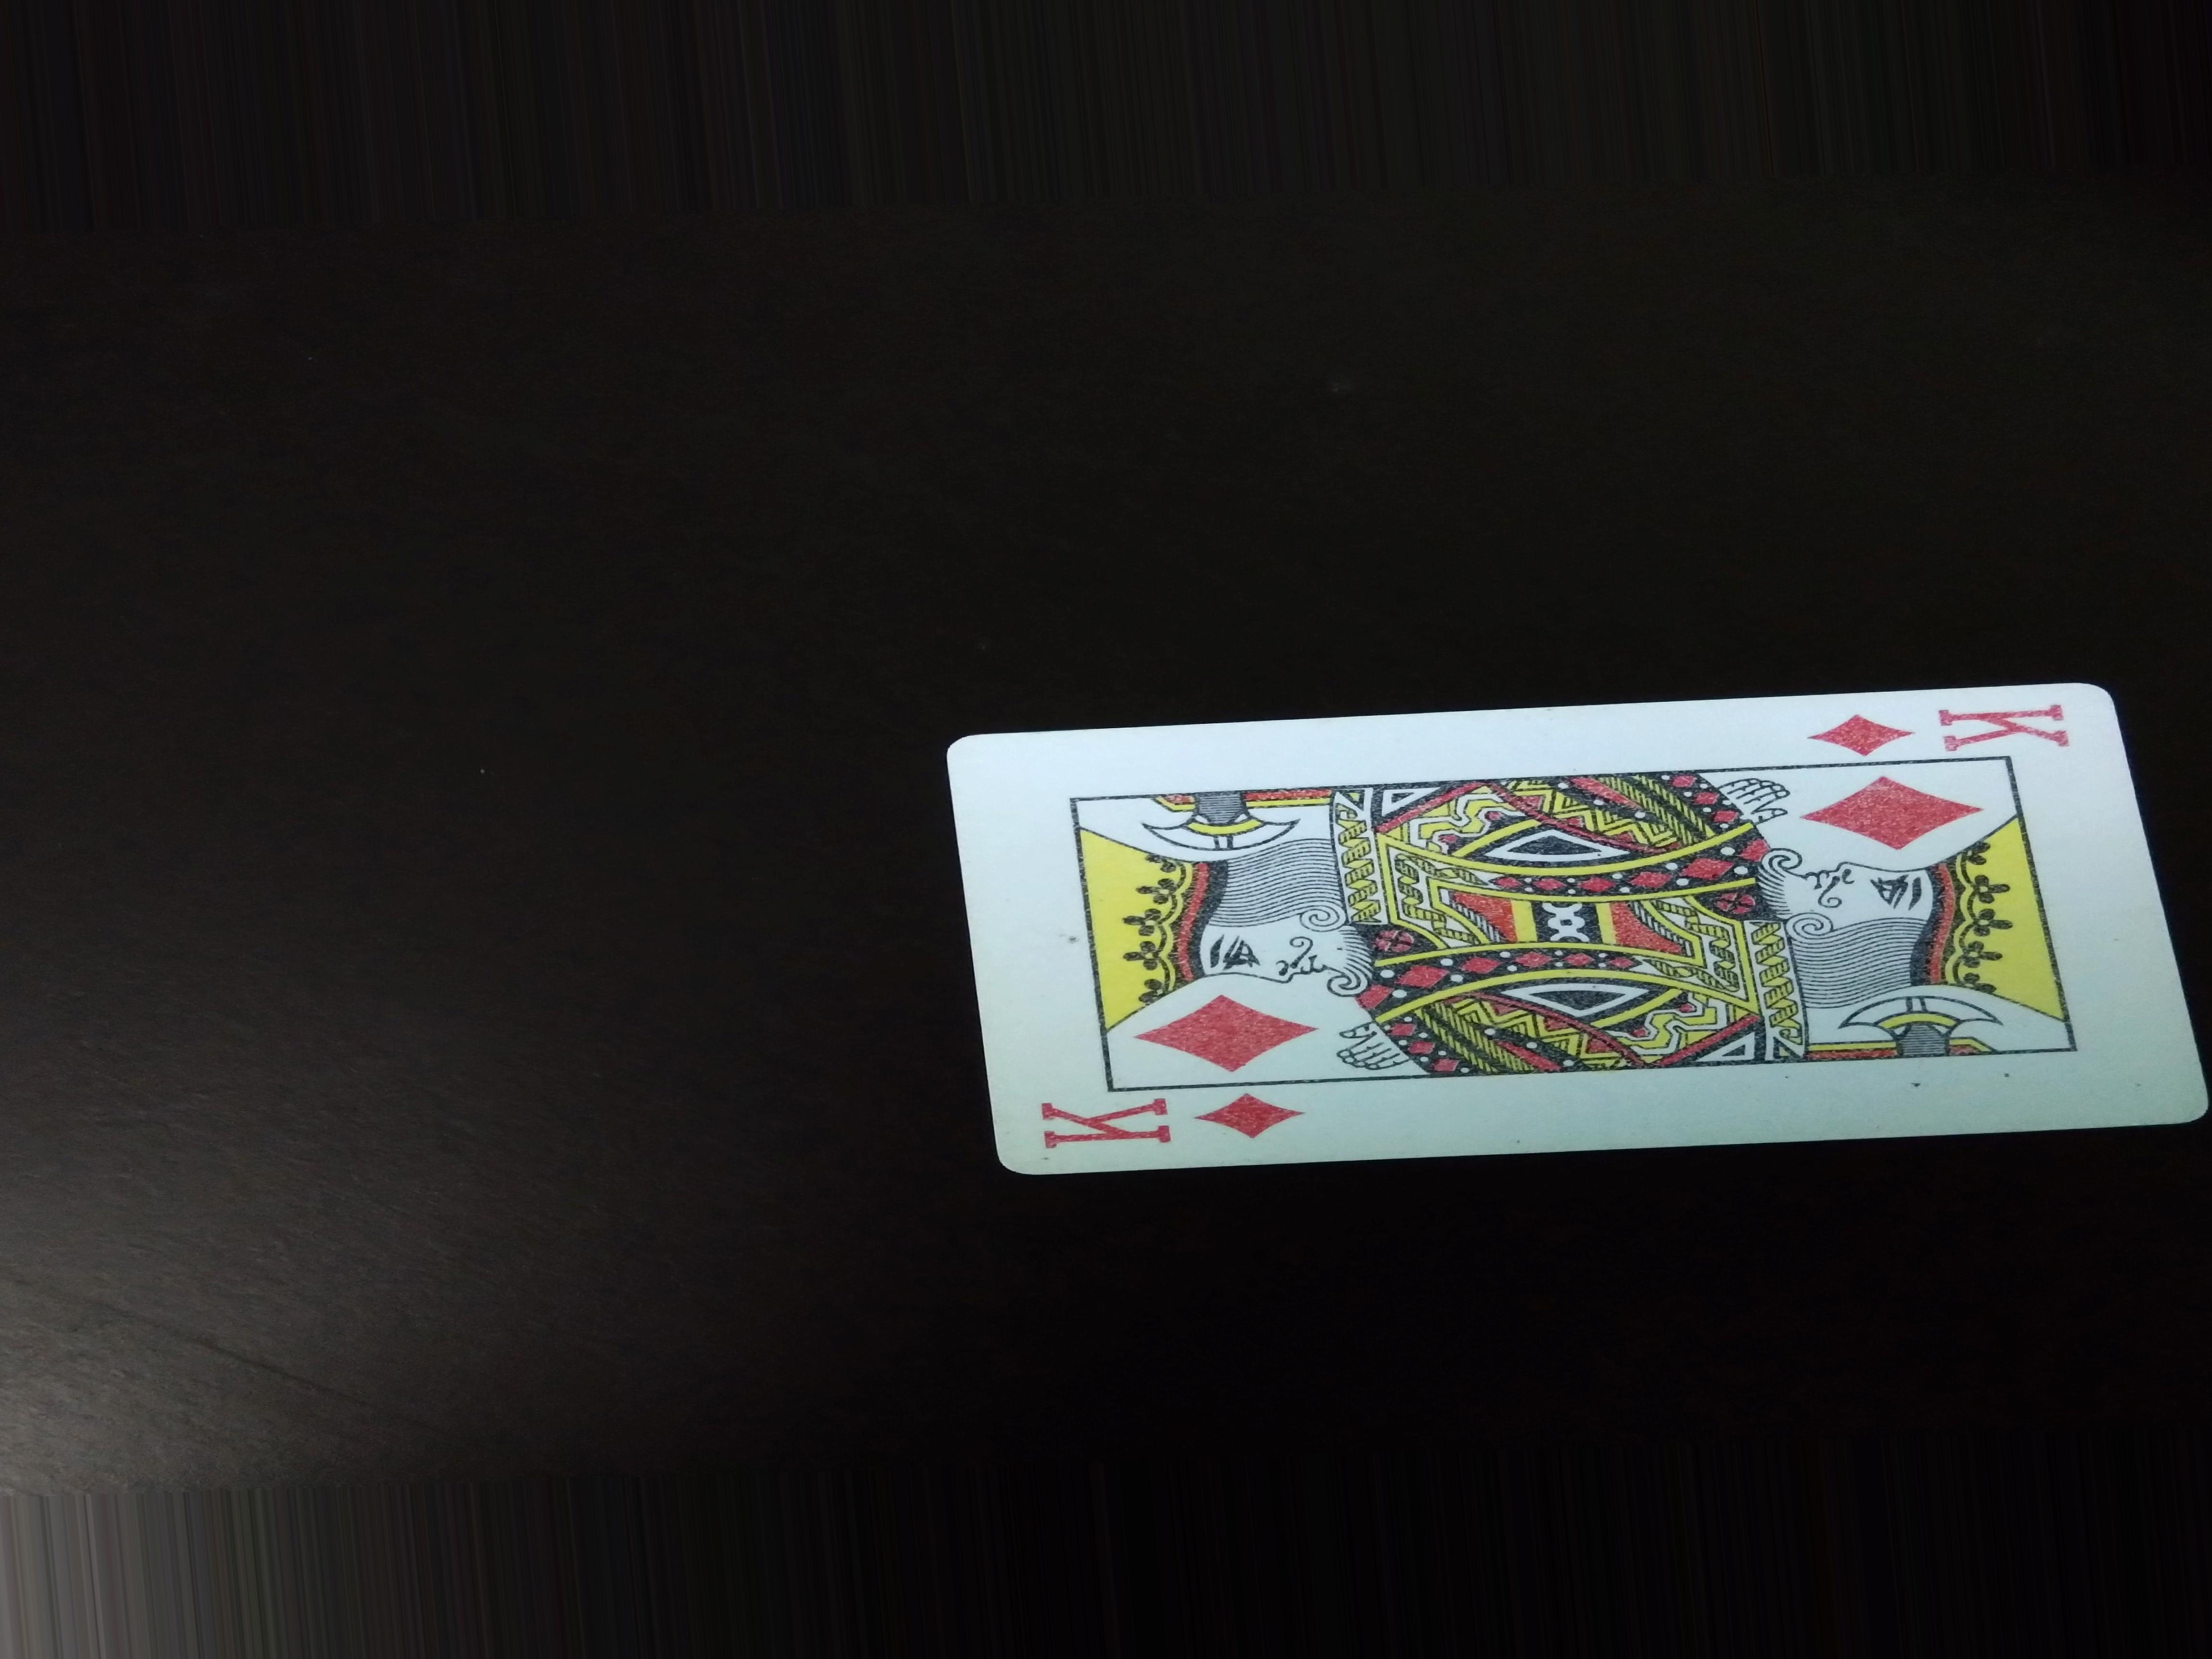KD: (1015, 1086, 1312, 1152)
